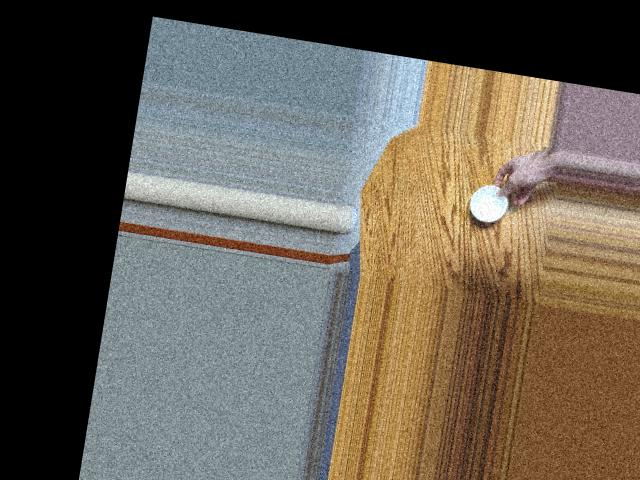cotage: (466, 178, 511, 228)
